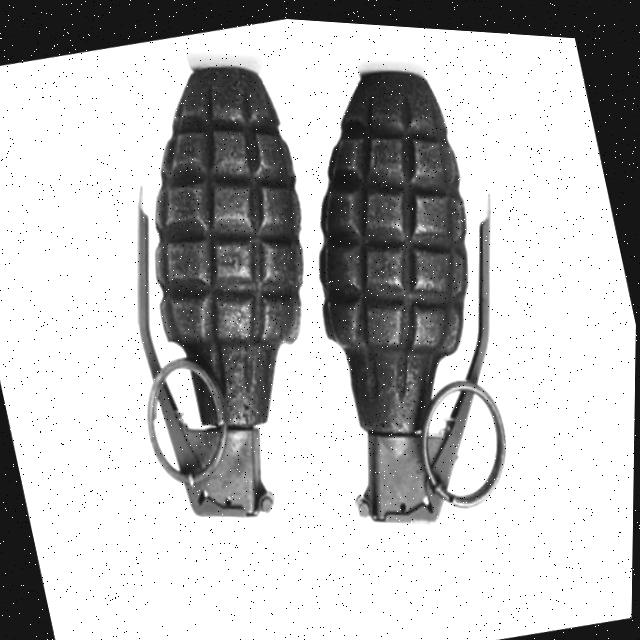grenade: (14, 1, 619, 640)
